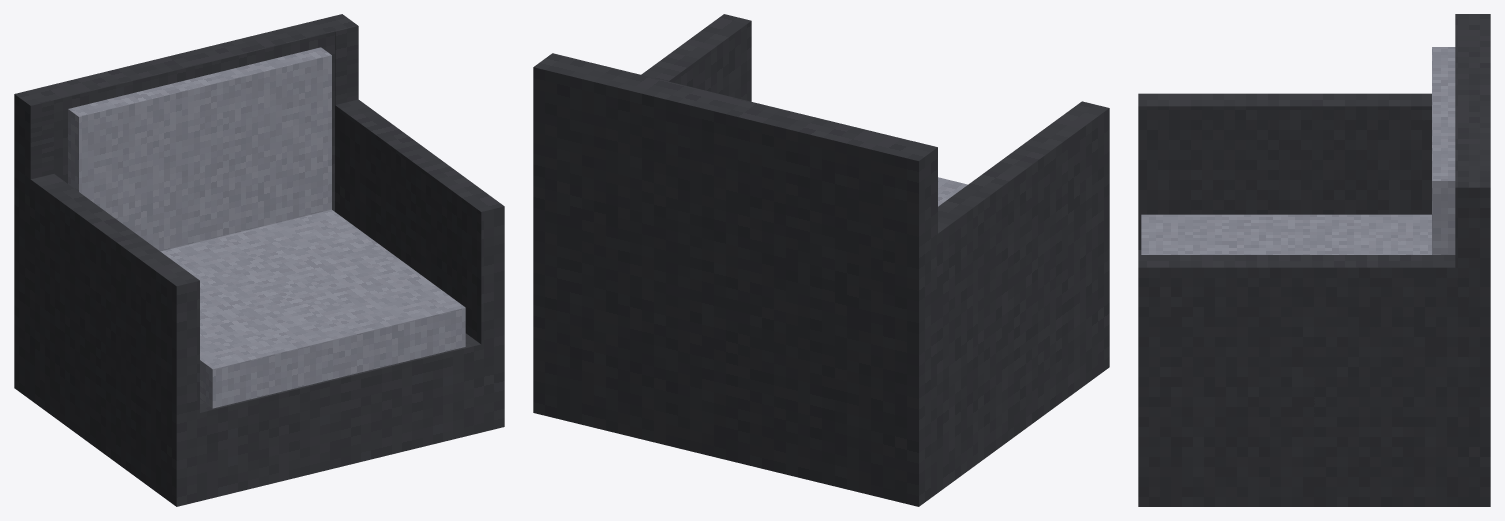
Rendered from HomeChair1.fbx.
3 renders of one model, left to right at view 1: azimuth 30°, elevation 25°; view 2: azimuth 150°, elevation 25°; view 3: azimuth 270°, elevation 25°, orthographic. The views are drawn at different scales.
Parts seen in each view (by area): view 1: Cube_2, Cube_3, Cube, Cube_1, Cube_2_2; view 2: Cube_2, Cube_2_2, Cube_1; view 3: Cube_2, Cube_1, Cube, Cube_2_2, Cube_3.
Boxes of the visible parts, x1,y1,x2,y2 form: Cube_2: (14,14,504,506); Cube_3: (68,47,331,251); Cube: (160,209,465,408); Cube_1: (54,31,481,412); Cube_2_2: (30,26,503,286); Cube_2: (533,53,1109,506); Cube_2_2: (641,14,1108,233); Cube_1: (669,21,751,101); Cube_2: (1138,14,1490,506); Cube_1: (1138,106,1431,254); Cube: (1141,214,1431,254); Cube_2_2: (1138,93,1455,267); Cube_3: (1432,47,1455,254).
Size of the model in its own units: 350 by 300 by 300.
2 materials, 2 textured.
